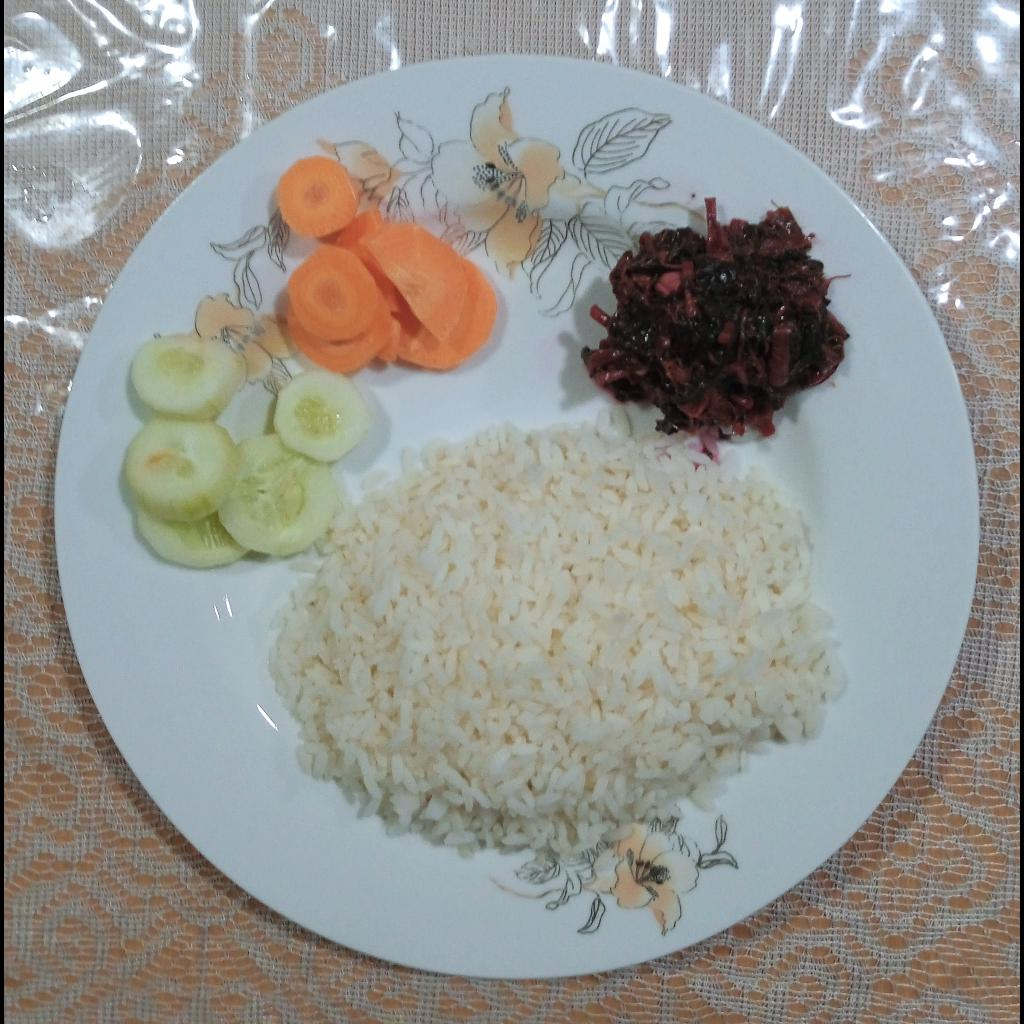carrot: (277, 157, 497, 373)
cucumber: (124, 336, 369, 568)
lal-shak: (581, 199, 850, 440)
rice: (265, 405, 841, 864)
